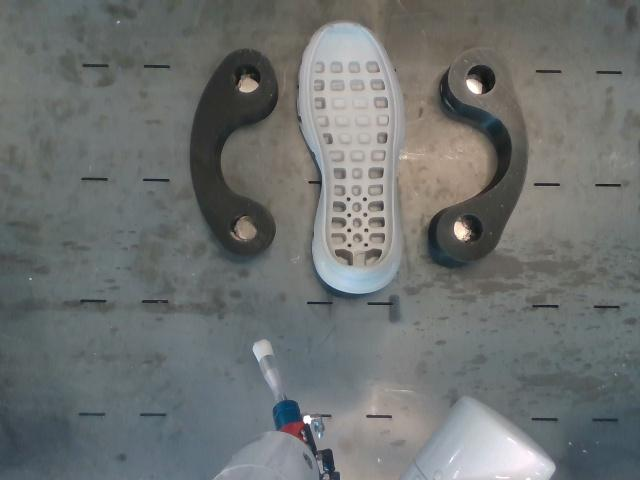shoes: (309, 25, 396, 269)
